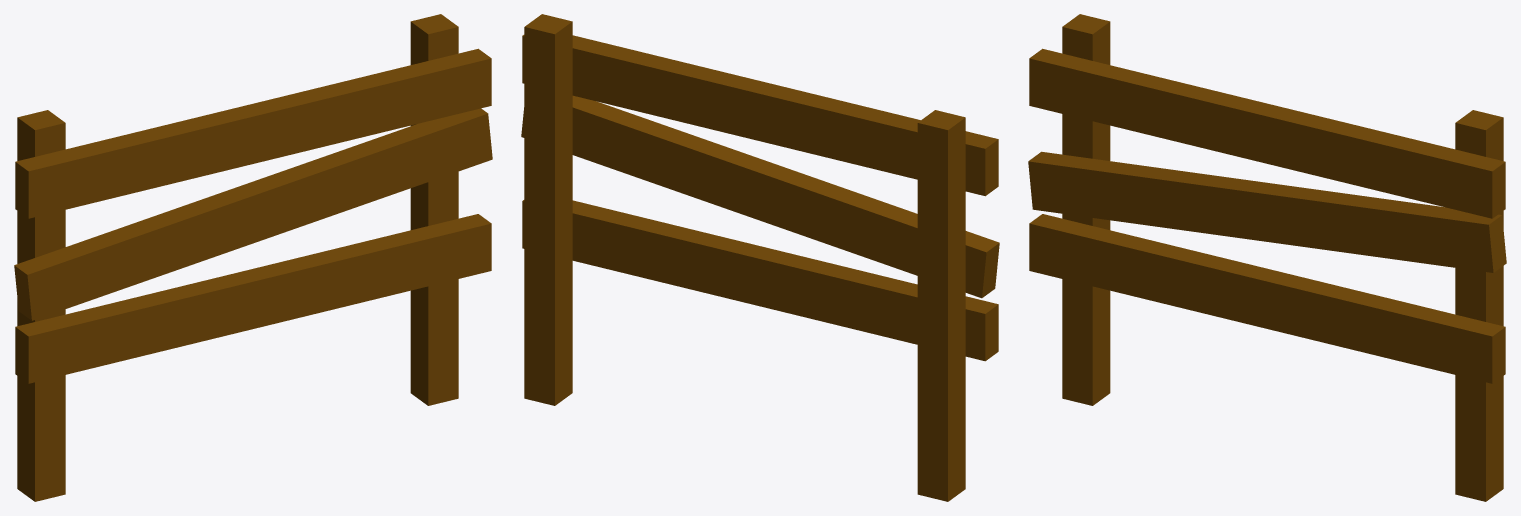
Rendered from Barricade.fbx.
The picture shows the model from 3 angles, left to right: view 1: azimuth 30°, elevation 25°; view 2: azimuth 150°, elevation 25°; view 3: azimuth 330°, elevation 25°; orthographic projection.
Visible parts, largest first — view 1: Barricade, Barricade_cell.001, Barricade_cell.004, Barricade_cell.000, Barricade_cell.005, Barricade_cell.009, Barricade_cell.003, Barricade_cell.008, Barricade_cell.007, Barricade_cell.010, Barricade_cell.006, Barricade_cell.002; view 2: Barricade, Barricade_cell.001, Barricade_cell.008, Barricade_cell.004, Barricade_cell.006, Barricade_cell.007, Barricade_cell.005, Barricade_cell.003, Barricade_cell.009, Barricade_cell.010, Barricade_cell.002, Barricade_cell.000; view 3: Barricade, Barricade_cell.001, Barricade_cell.000, Barricade_cell.009, Barricade_cell.004, Barricade_cell.006, Barricade_cell.008, Barricade_cell.010, Barricade_cell.003, Barricade_cell.007, Barricade_cell.005, Barricade_cell.002.
Boxes of the visible parts, left/top/right/bottom form: Barricade: left=14, top=14, right=492, bottom=501; Barricade_cell.001: left=109, top=246, right=373, bottom=363; Barricade_cell.004: left=134, top=100, right=356, bottom=192; Barricade_cell.000: left=329, top=214, right=491, bottom=310; Barricade_cell.005: left=324, top=58, right=491, bottom=137; Barricade_cell.009: left=35, top=223, right=65, bottom=501; Barricade_cell.003: left=15, top=141, right=153, bottom=217; Barricade_cell.008: left=28, top=195, right=275, bottom=320; Barricade_cell.007: left=277, top=113, right=491, bottom=234; Barricade_cell.010: left=28, top=303, right=138, bottom=382; Barricade_cell.006: left=410, top=23, right=452, bottom=387; Barricade_cell.002: left=21, top=118, right=65, bottom=232; Barricade: left=521, top=14, right=999, bottom=501; Barricade_cell.001: left=640, top=220, right=905, bottom=341; Barricade_cell.008: left=738, top=167, right=986, bottom=298; Barricade_cell.004: left=657, top=77, right=880, bottom=170; Barricade_cell.006: left=524, top=27, right=572, bottom=404; Barricade_cell.007: left=521, top=107, right=741, bottom=212; Barricade_cell.005: left=522, top=36, right=690, bottom=115; Barricade_cell.003: left=859, top=118, right=998, bottom=195; Barricade_cell.009: left=917, top=211, right=965, bottom=499; Barricade_cell.010: left=875, top=277, right=985, bottom=360; Barricade_cell.002: left=917, top=116, right=965, bottom=232; Barricade_cell.000: left=522, top=201, right=684, bottom=287; Barricade: left=1028, top=14, right=1506, bottom=501; Barricade_cell.001: left=1109, top=241, right=1387, bottom=333; Barricade_cell.000: left=1344, top=298, right=1505, bottom=383; Barricade_cell.009: left=1062, top=119, right=1110, bottom=405; Barricade_cell.004: left=1134, top=89, right=1356, bottom=184; Barricade_cell.006: left=1455, top=117, right=1503, bottom=501; Barricade_cell.008: left=1028, top=160, right=1275, bottom=237; Barricade_cell.010: left=1029, top=221, right=1152, bottom=290; Barricade_cell.003: left=1029, top=58, right=1146, bottom=131; Barricade_cell.007: left=1272, top=195, right=1506, bottom=272; Barricade_cell.005: left=1325, top=131, right=1505, bottom=218; Barricade_cell.002: left=1062, top=27, right=1108, bottom=143.
Bounding box in the file's own units: 4.66 × 3.56 × 0.5346.
